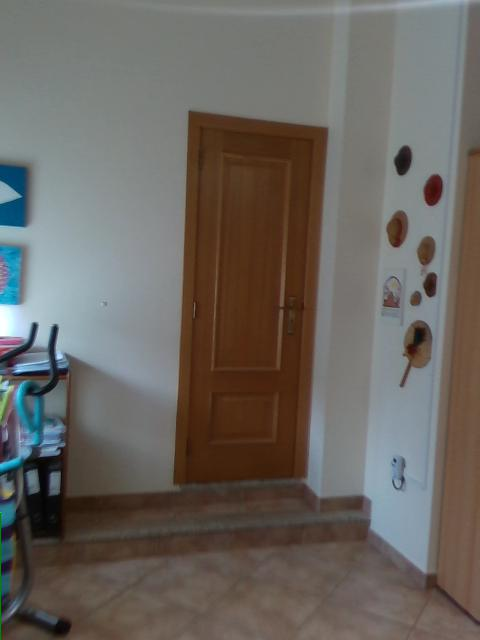door: (185, 125, 313, 482)
